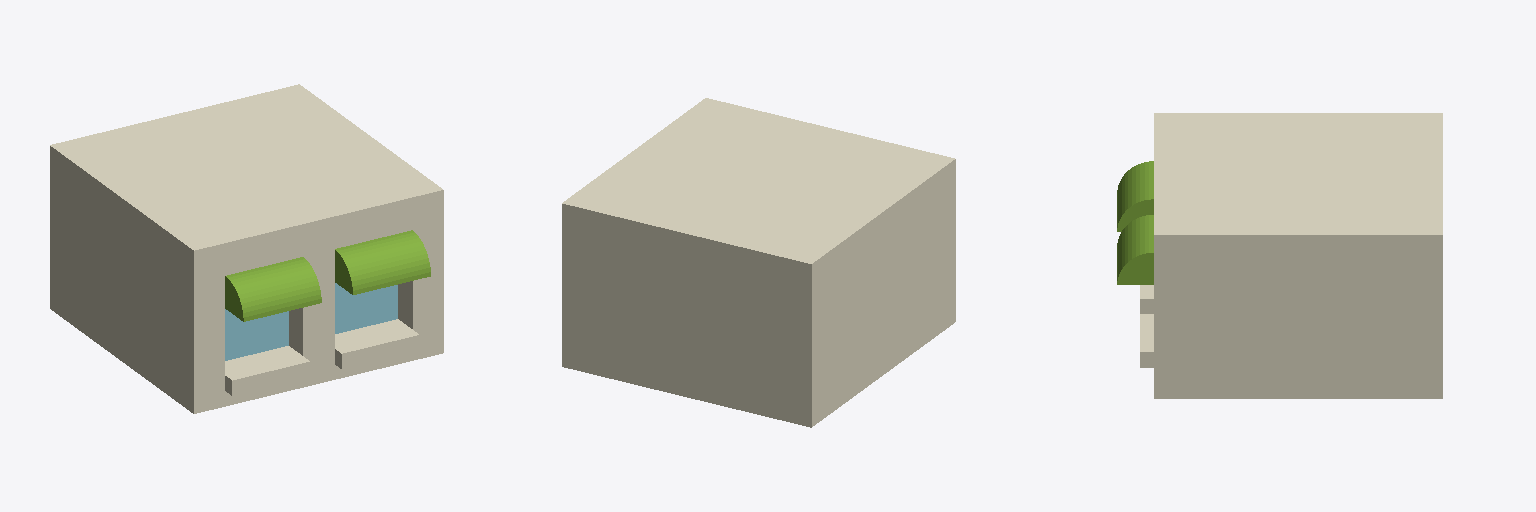
The model's file is houseFloor4.obj.
3 views of the same model, side by side, from view 1: azimuth 30°, elevation 25°; view 2: azimuth 150°, elevation 25°; view 3: azimuth 270°, elevation 25° (orthographic).
Visible parts, largest first — view 1: Mesh1_Group1_Model.013; view 2: Mesh1_Group1_Model.013; view 3: Mesh1_Group1_Model.013.
Part boxes in pixels (x1,y1,x2,y2): Mesh1_Group1_Model.013: (50, 84, 443, 413); Mesh1_Group1_Model.013: (562, 98, 955, 427); Mesh1_Group1_Model.013: (1117, 113, 1442, 398).
Size of the model in its own units: 1 by 0.625 by 1.13.